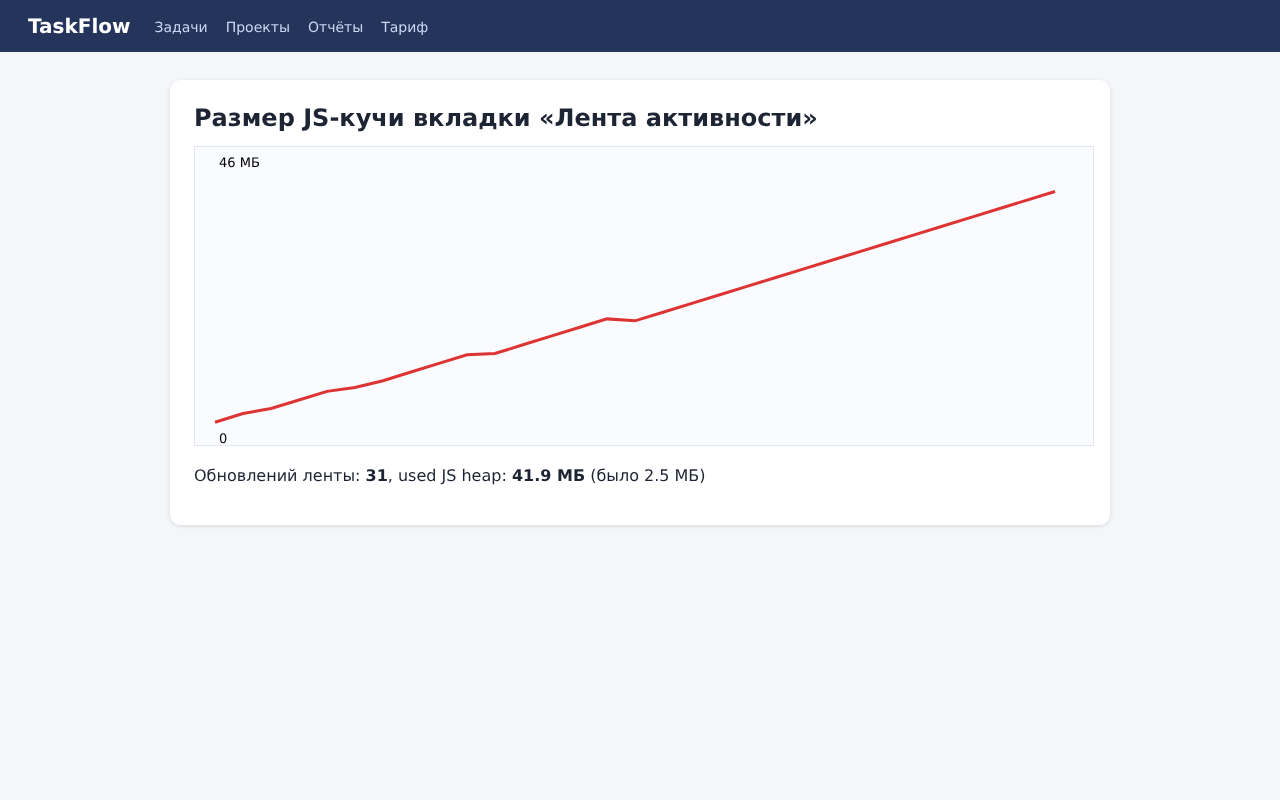CHART: (194, 146, 1094, 446)
STATUS_INDICATOR: (195, 468, 704, 485)
